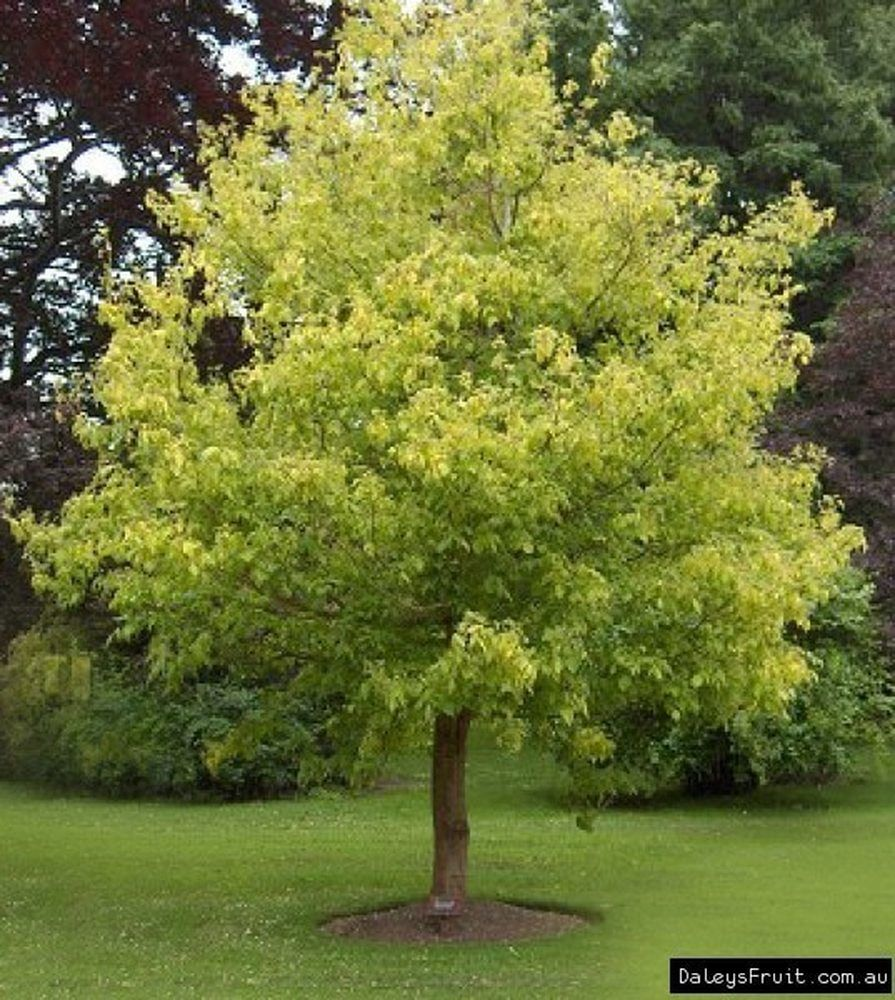tree: (9, 1, 882, 909)
